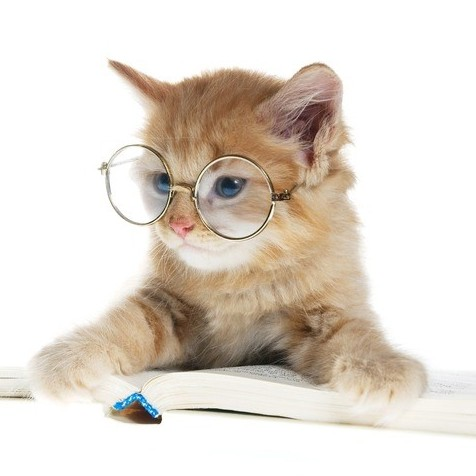cat: (96, 47, 384, 283)
